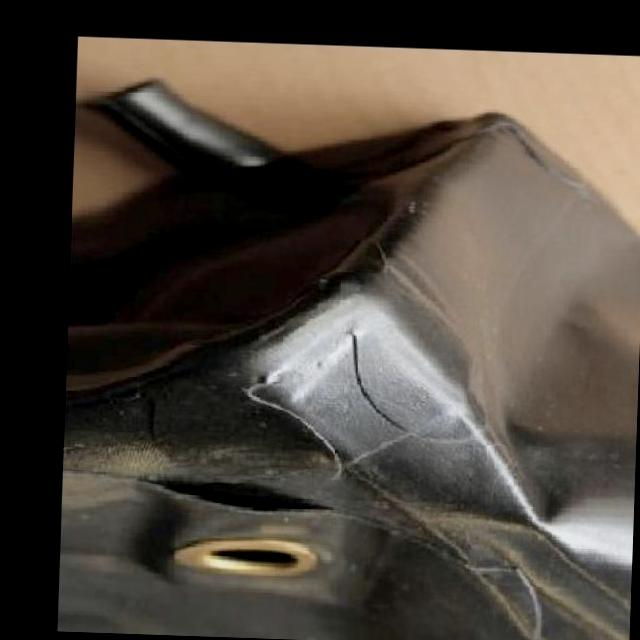crack: (314, 331, 418, 443)
